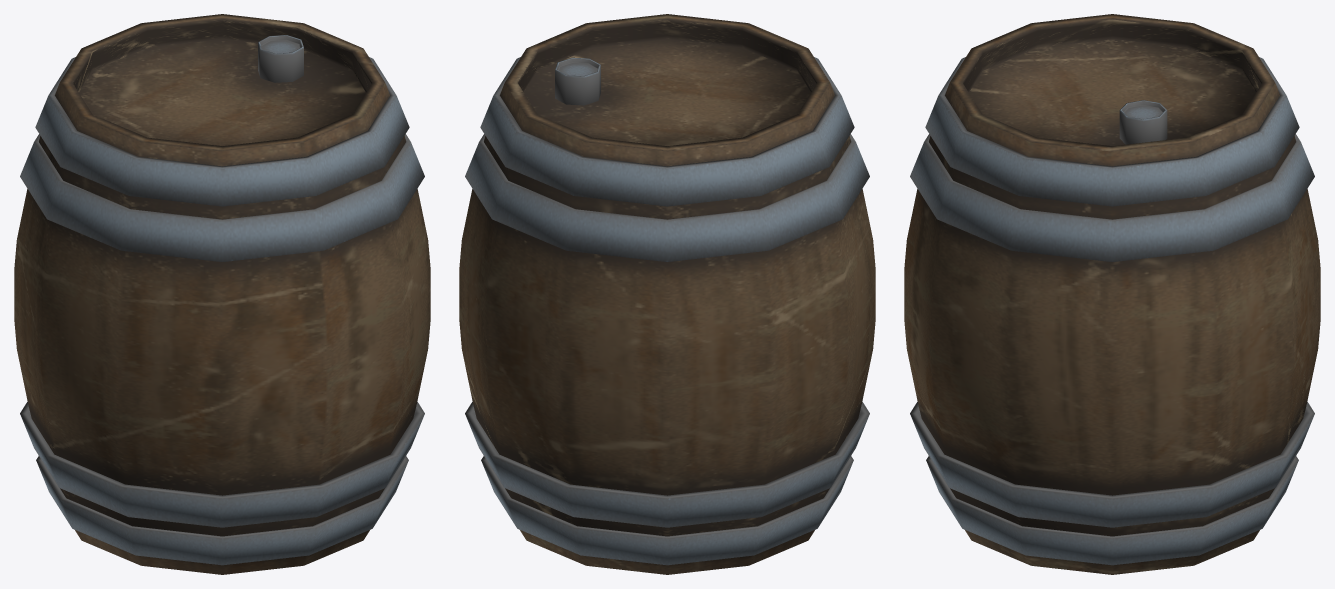
Rendered from barile_textur_final.fbx.
3 renders of one model, left to right at view 1: azimuth 30°, elevation 25°; view 2: azimuth 150°, elevation 25°; view 3: azimuth 270°, elevation 25°, orthographic.
Visible parts, largest first — view 1: fut_finale; view 2: fut_finale; view 3: fut_finale.
Part boxes in pixels (box(x1,y1,x2,y2)): fut_finale: box(14, 14, 430, 574); fut_finale: box(459, 14, 875, 574); fut_finale: box(904, 14, 1320, 574).
Bounding box in the file's own units: 421 × 483 × 421.
